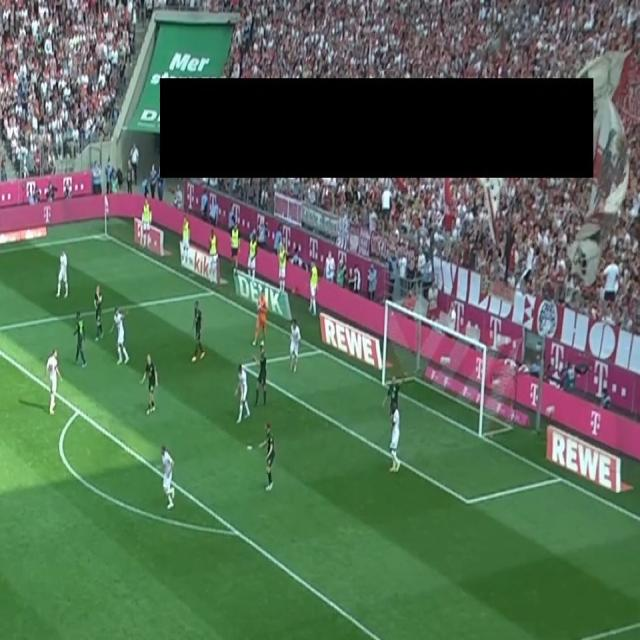ball: (257, 301, 262, 311)
